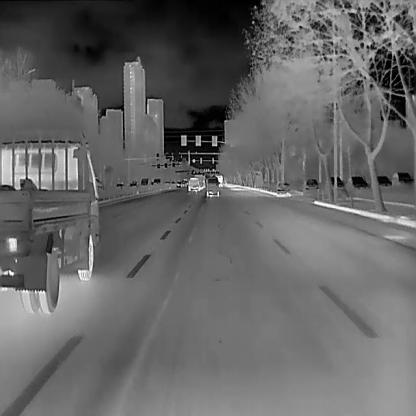car: (204, 174, 219, 196), (348, 174, 370, 188), (392, 170, 413, 184), (187, 177, 200, 192), (303, 177, 318, 189), (330, 176, 345, 188), (276, 180, 290, 192), (376, 175, 389, 186)
truck: (0, 128, 112, 313)
